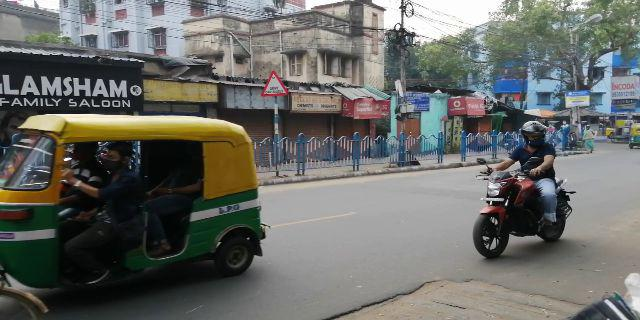Autorickshaw: (1, 114, 264, 291)
Motorbike: (467, 117, 577, 260)
